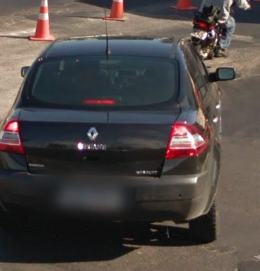car: (1, 35, 238, 245)
